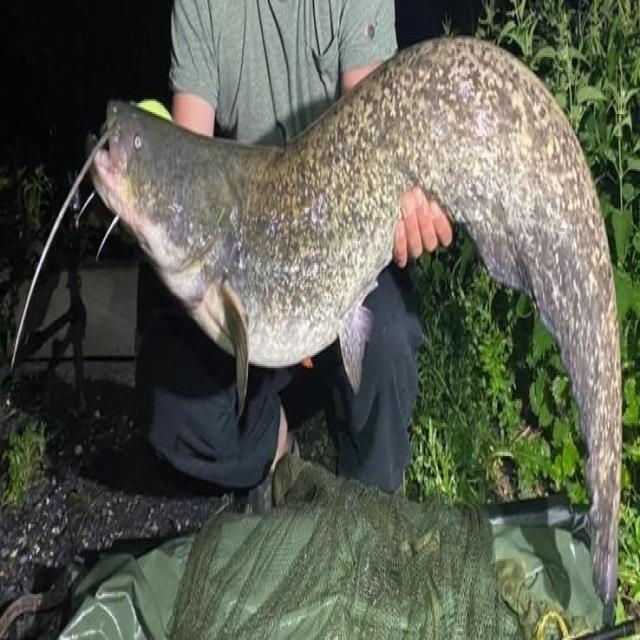Catfish: (68, 32, 632, 630)
